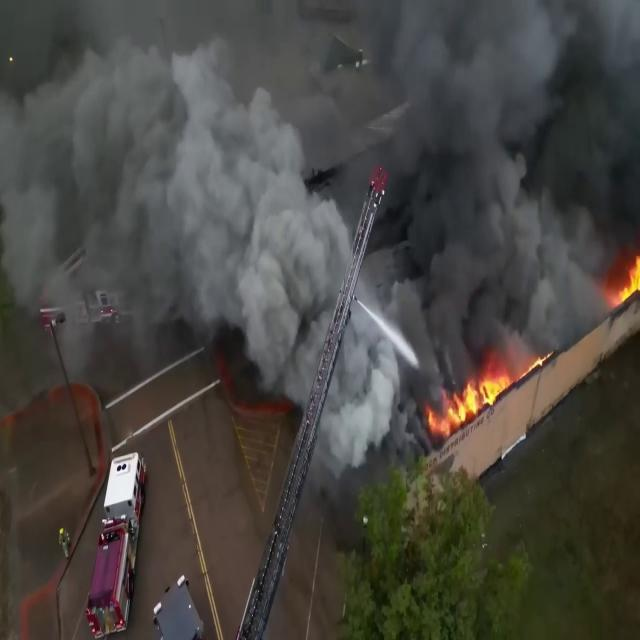Fire: (441, 356, 517, 426), (615, 236, 640, 310)
Smoke: (1, 0, 640, 378)
